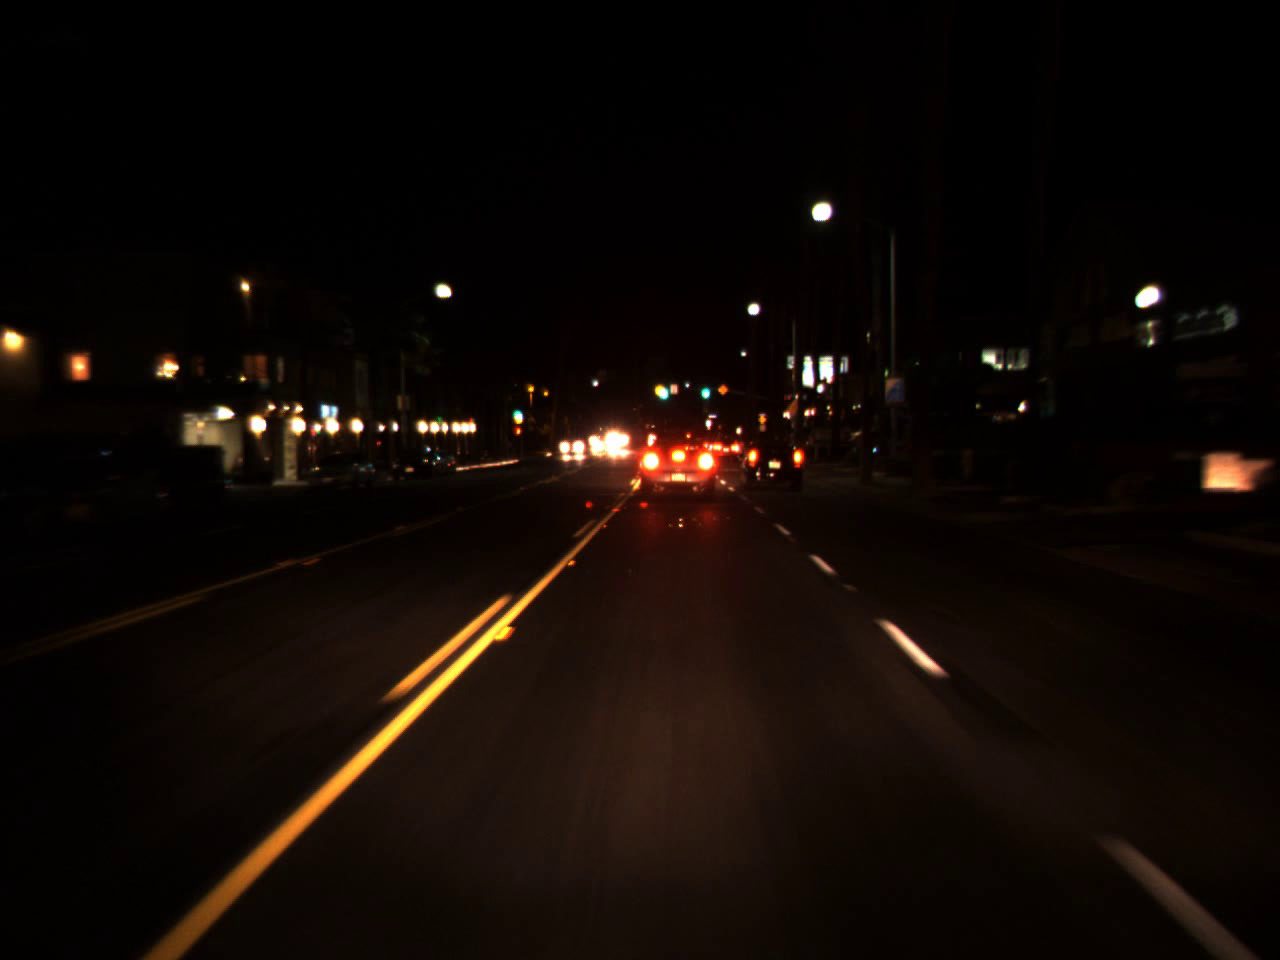go: (698, 375, 712, 402), (656, 375, 668, 402), (512, 403, 522, 418)
